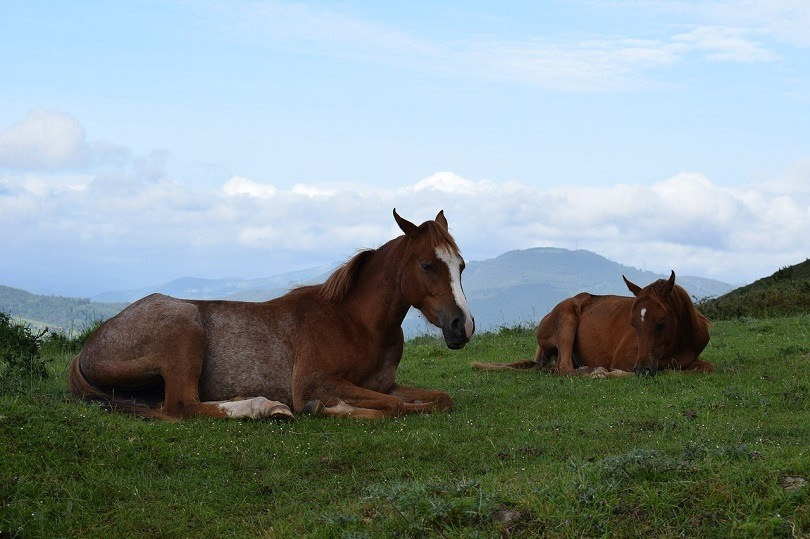Horse: (79, 201, 490, 439), (499, 272, 727, 397)
